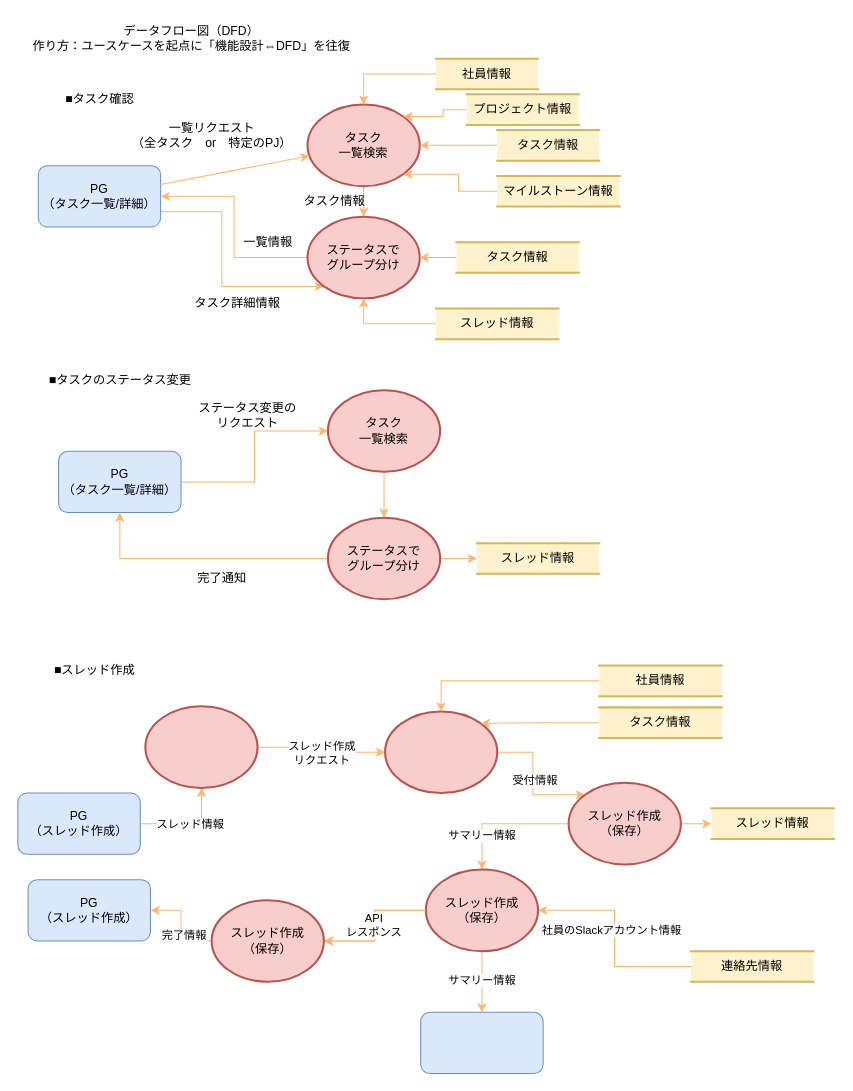
Image size: 853x1091. Some labels were removed from this diagram. The shapes that lost their labels are listed below. From the top down, each one's centre as x and y in pixels, then its label:
At (201,746): "バリデーション".
At (441,752): "存在チェック".
At (481,1042): "SE （Slack）".
